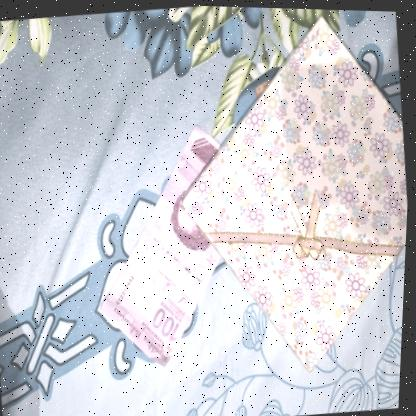one_hundred-front-vef: (80, 116, 246, 373)
